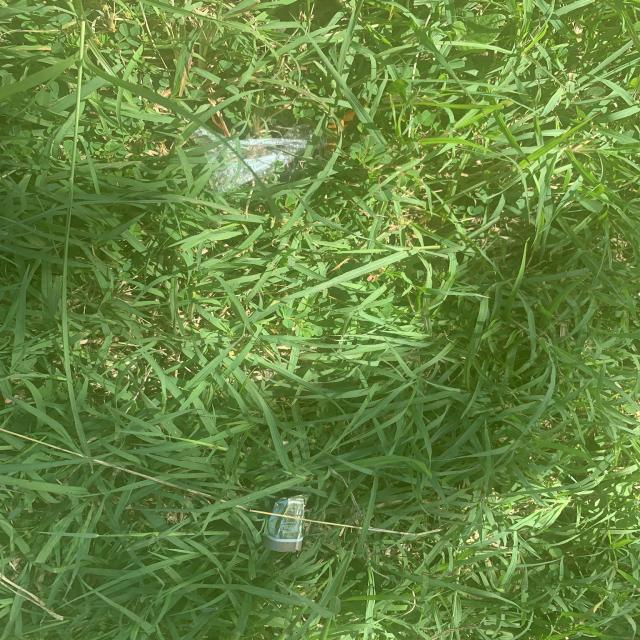litter: (167, 116, 328, 207), (248, 492, 329, 558)
